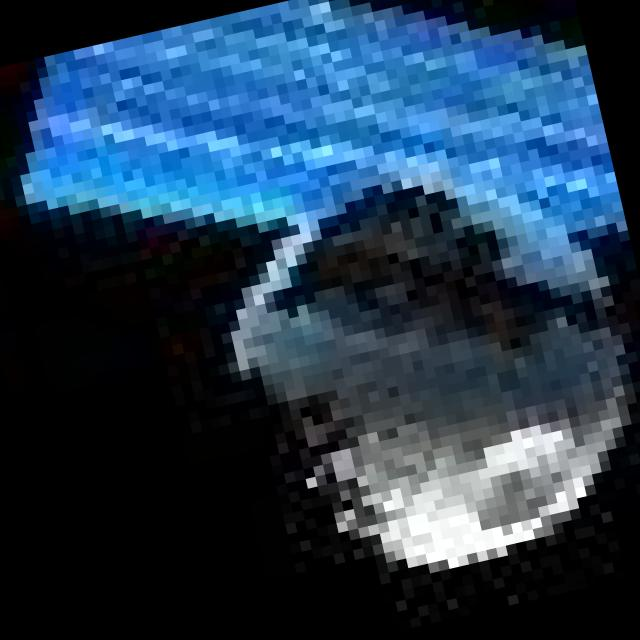Death Star: (178, 108, 640, 617)
